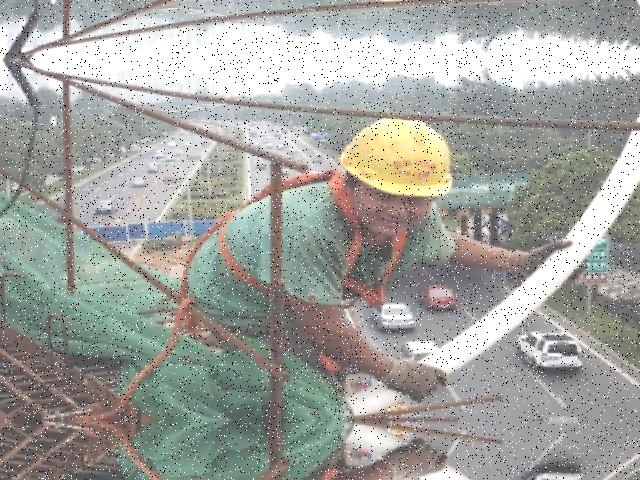Helmet: (330, 110, 456, 205)
